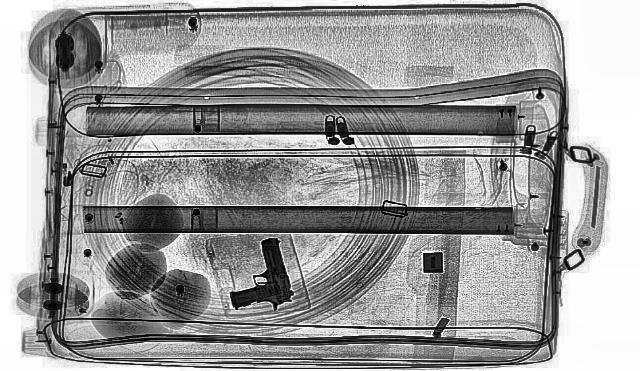Gun: (213, 238, 299, 313)
